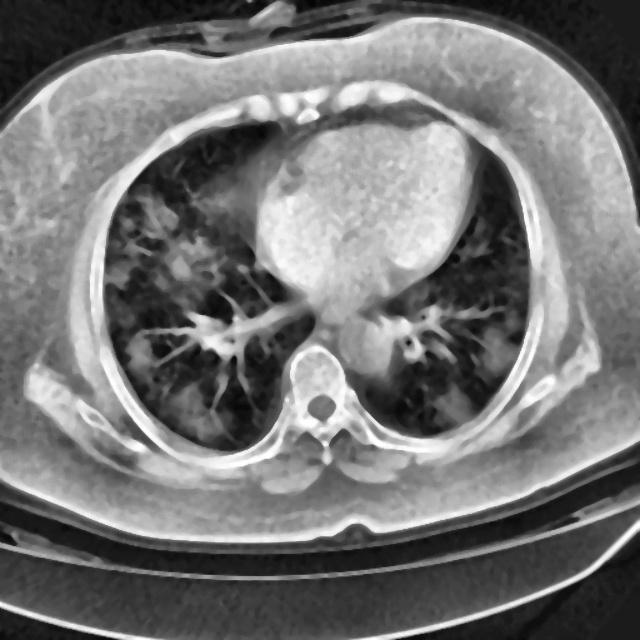covid: (1, 7, 638, 554)
